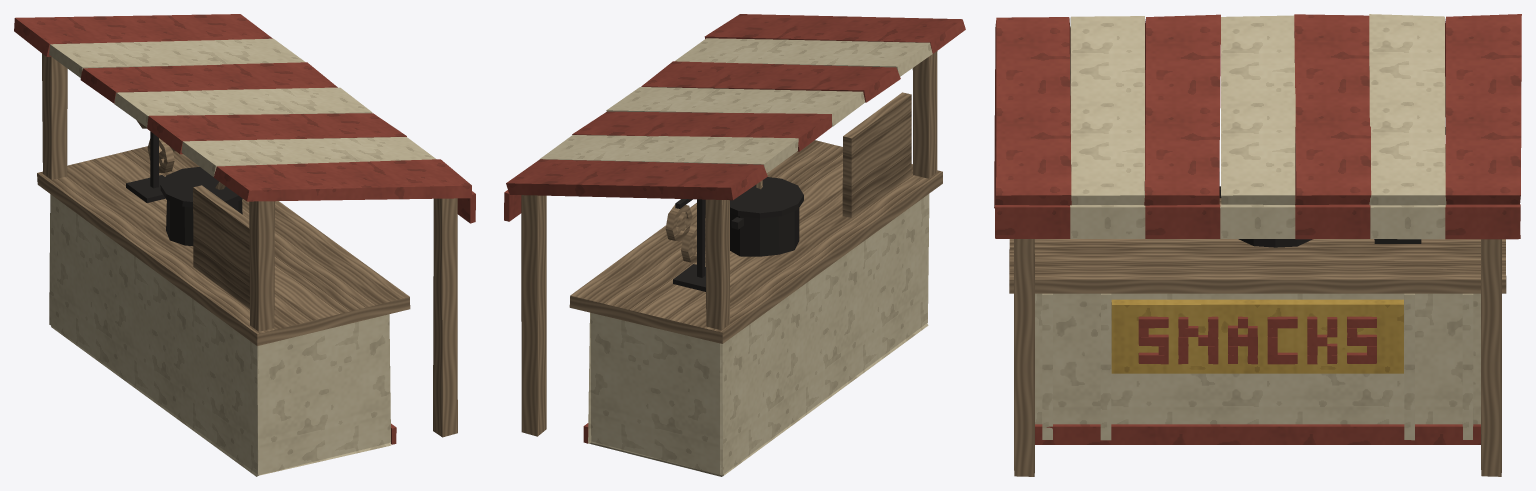
Rendered from ferry_snack_stand.glb.
3 views of the same model, side by side, from view 1: azimuth 30°, elevation 25°; view 2: azimuth 150°, elevation 25°; view 3: azimuth 270°, elevation 25° (orthographic). The views are drawn at different scales.
Visible parts, largest first — view 1: FerrySnackStand; view 2: FerrySnackStand; view 3: FerrySnackStand, Sign.
Part boxes in pixels (x1,y1,x2,y2): FerrySnackStand: [14, 14, 475, 476]; FerrySnackStand: [504, 14, 965, 476]; FerrySnackStand: [994, 14, 1521, 476]; Sign: [1111, 299, 1403, 373].
Size of the model in its own units: 1.44 by 1.82 by 2.53.
Materials: 5 (4 with a texture image).
